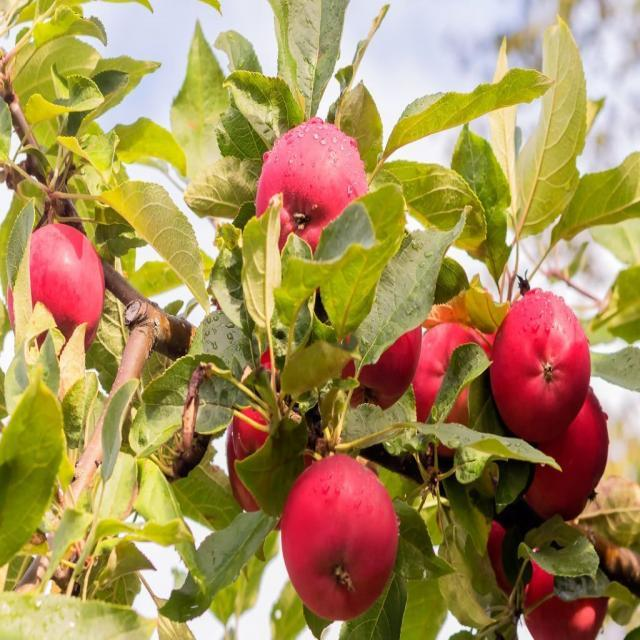Red Apple: (283, 460, 402, 621), (263, 121, 369, 258), (496, 290, 588, 435), (524, 381, 618, 509), (16, 224, 108, 346), (414, 322, 497, 434), (521, 543, 606, 640), (350, 315, 421, 407), (237, 362, 293, 438), (222, 428, 277, 504), (473, 522, 526, 598)
